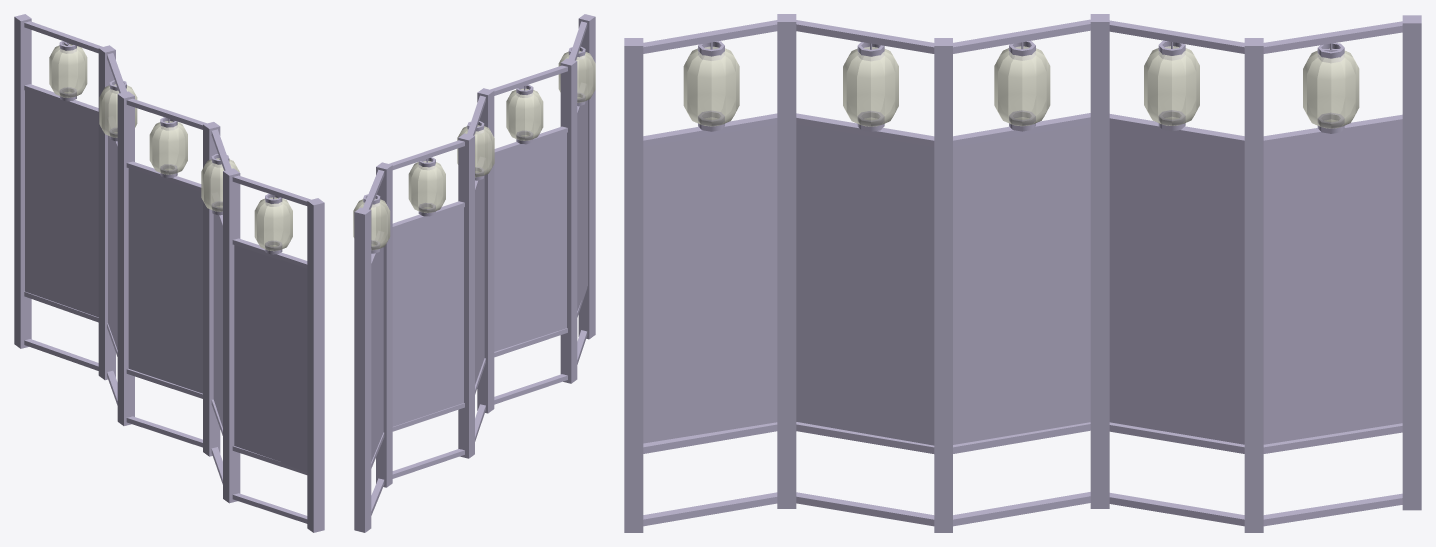
Rendered from japaneseWall.fbx.
3 views of the same model, side by side, from view 1: azimuth 30°, elevation 25°; view 2: azimuth 150°, elevation 25°; view 3: azimuth 270°, elevation 25° (orthographic). The views are drawn at different scales.
Visible parts, largest first — view 1: Shotengai_Maple_room_RE1.001, Shotengai_Maple_room_RE1.007; view 2: Shotengai_Maple_room_RE1.001, Shotengai_Maple_room_RE1.007; view 3: Shotengai_Maple_room_RE1.001, Shotengai_Maple_room_RE1.007.
Part boxes in pixels (<box>): Shotengai_Maple_room_RE1.001: <box>14,14,324,532</box>; Shotengai_Maple_room_RE1.007: <box>49,41,292,254</box>; Shotengai_Maple_room_RE1.001: <box>354,14,595,532</box>; Shotengai_Maple_room_RE1.007: <box>353,46,595,253</box>; Shotengai_Maple_room_RE1.001: <box>624,14,1421,532</box>; Shotengai_Maple_room_RE1.007: <box>683,40,1359,133</box>.
Bounding box in the file's own units: 93.01 × 663 × 984.
